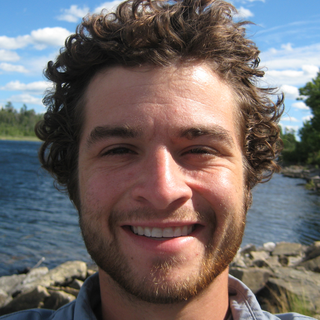eye: (96, 140, 144, 163), (177, 141, 224, 164)
